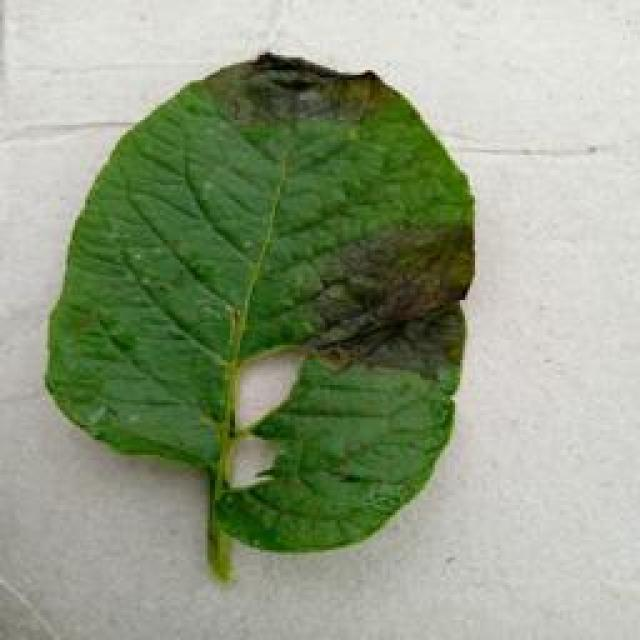late_blight: (40, 48, 480, 582)
